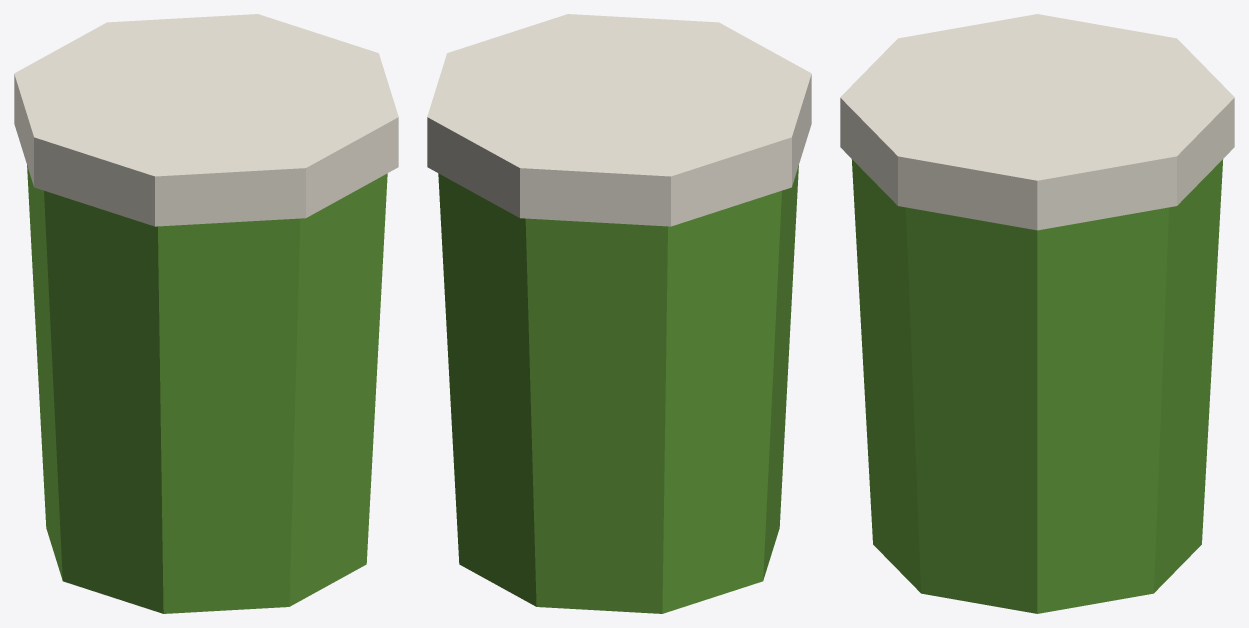
File: zoo_trash_bin.glb
The picture shows the model from 3 angles, left to right: view 1: azimuth 30°, elevation 25°; view 2: azimuth 150°, elevation 25°; view 3: azimuth 270°, elevation 25°; orthographic projection.
Visible parts, largest first — view 1: zoo_trash_bin; view 2: zoo_trash_bin; view 3: zoo_trash_bin.
Boxes of the visible parts, box(x1,y1,x2,y2) form: zoo_trash_bin: box(14, 14, 398, 613); zoo_trash_bin: box(427, 14, 811, 613); zoo_trash_bin: box(840, 14, 1234, 613).
Size of the model in its own units: 0.72 by 0.9 by 0.72.
